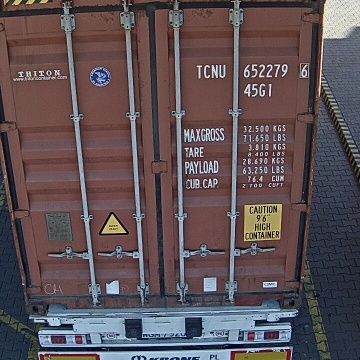serial_id: (196, 63, 309, 78)
